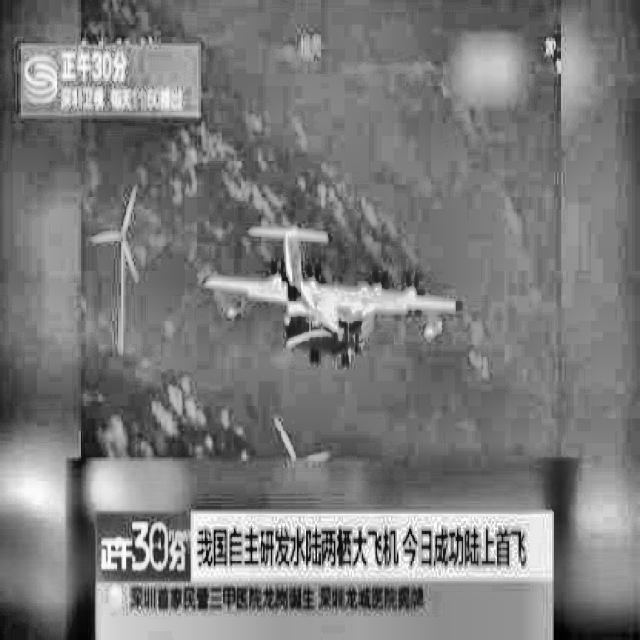AG600: (204, 224, 458, 368)
